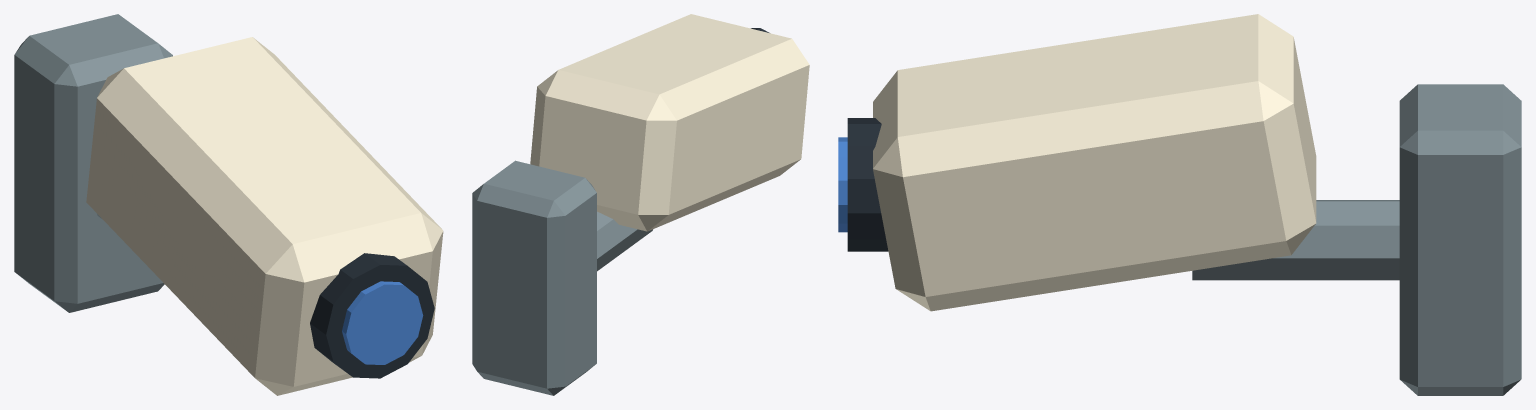
Rendered from Prop_SecurityCamera.fbx.
3 views of the same model, side by side, from view 1: azimuth 30°, elevation 25°; view 2: azimuth 150°, elevation 25°; view 3: azimuth 270°, elevation 25° (orthographic). The views are drawn at different scales.
Parts seen in each view (by area): view 1: Camera.001, Mount, Lens, LensGlass; view 2: Camera.001, Mount, Arm; view 3: Camera.001, Mount, Arm, Lens, LensGlass.
Boxes of the visible parts, bbox=[...] form: Camera.001: bbox=[86, 37, 443, 395]; Mount: bbox=[14, 14, 172, 312]; Lens: bbox=[310, 253, 434, 378]; LensGlass: bbox=[342, 281, 423, 364]; Camera.001: bbox=[530, 14, 809, 231]; Mount: bbox=[472, 160, 596, 395]; Arm: bbox=[597, 211, 652, 271]; Camera.001: bbox=[873, 14, 1316, 311]; Mount: bbox=[1399, 84, 1521, 395]; Arm: bbox=[1192, 200, 1399, 280]; Lens: bbox=[847, 118, 888, 251]; LensGlass: bbox=[838, 137, 847, 232].
Bounding box in the file's own units: 0.18 × 0.2942 × 0.56.
